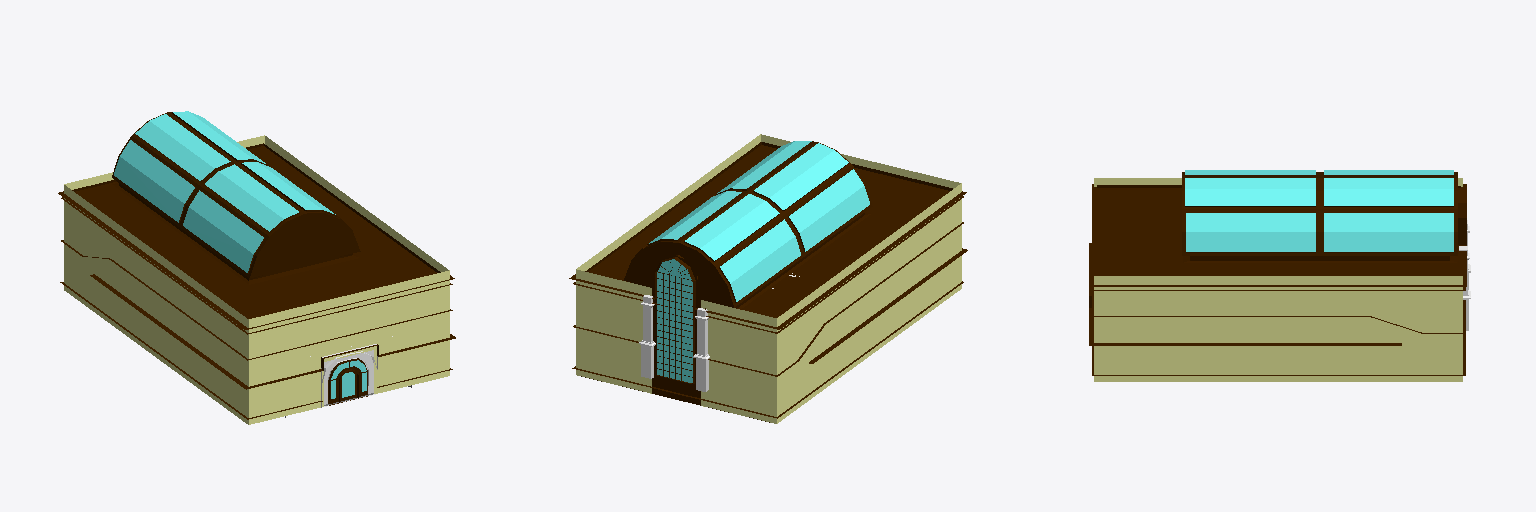
File: Main_Hall_Mesh01.obj
3 renders of one model, left to right at view 1: azimuth 30°, elevation 25°; view 2: azimuth 150°, elevation 25°; view 3: azimuth 270°, elevation 25°, orthographic.
Visible parts, largest first — view 1: Mesh_Main_Hall01; view 2: Mesh_Main_Hall01; view 3: Mesh_Main_Hall01.
Part boxes in pixels (x1,y1,x2,y2): Mesh_Main_Hall01: (58, 111, 455, 424); Mesh_Main_Hall01: (569, 134, 967, 423); Mesh_Main_Hall01: (1089, 170, 1470, 381).
Bounding box in the file's own units: 20.87 × 14.99 × 32.69.